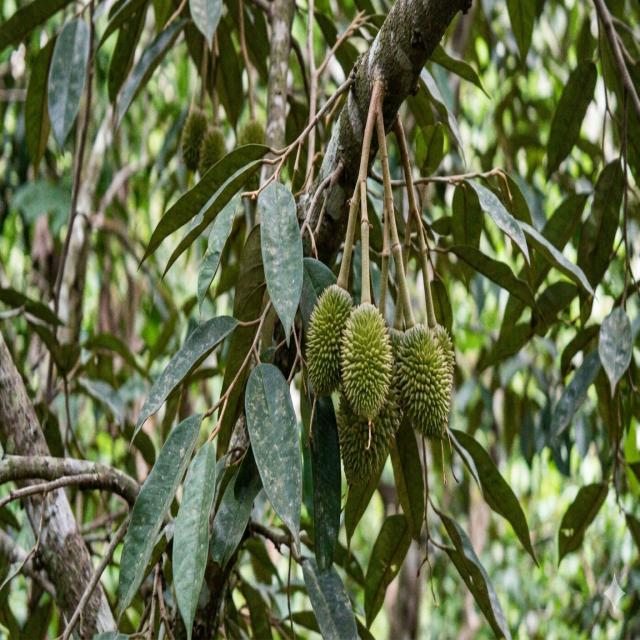immature: (393, 322, 455, 442), (338, 302, 395, 421), (336, 386, 399, 488), (305, 283, 354, 396), (238, 117, 268, 187), (180, 108, 208, 171), (199, 126, 228, 182), (430, 322, 454, 363)
